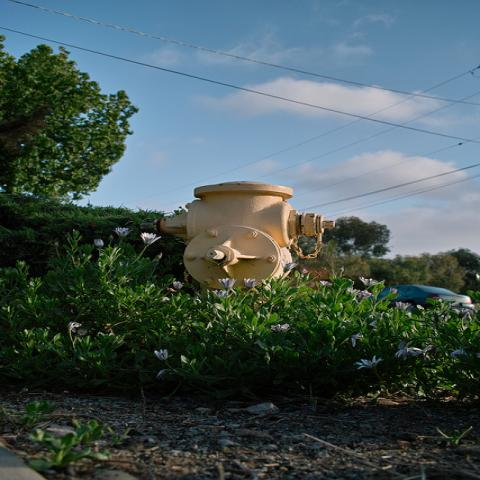car: (377, 285, 476, 309)
